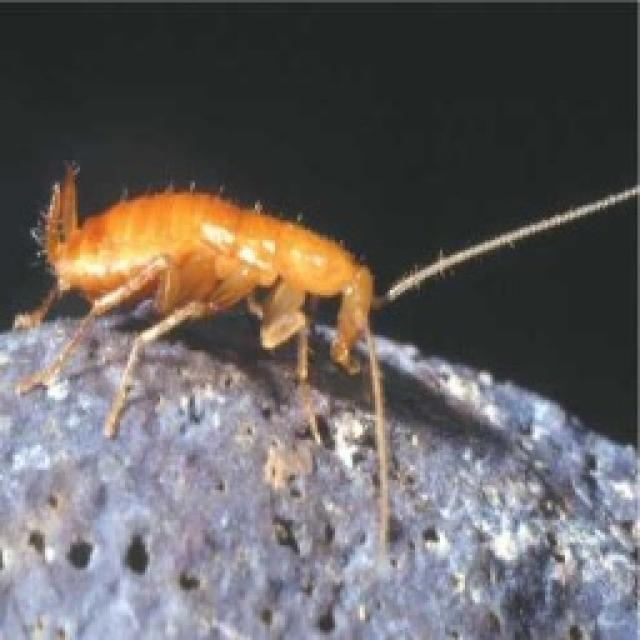cockroach: (11, 155, 403, 563)
